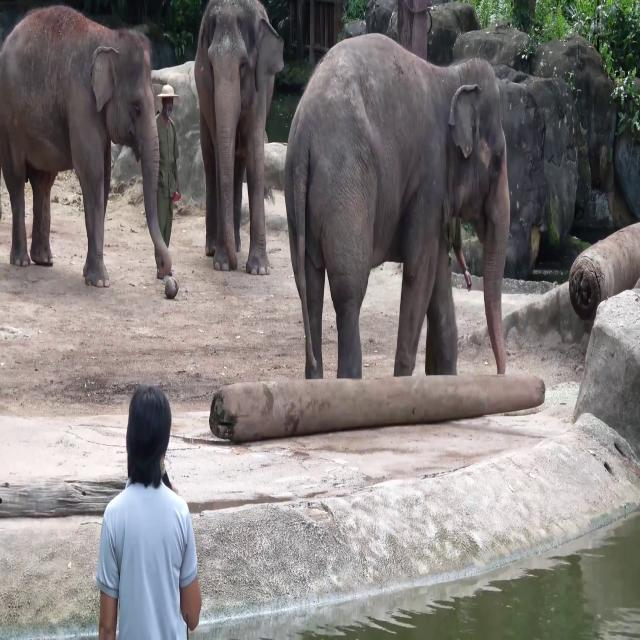Elephant: (283, 32, 511, 379), (0, 4, 173, 288), (193, 0, 284, 276)
person: (96, 383, 202, 639), (154, 83, 180, 280)
